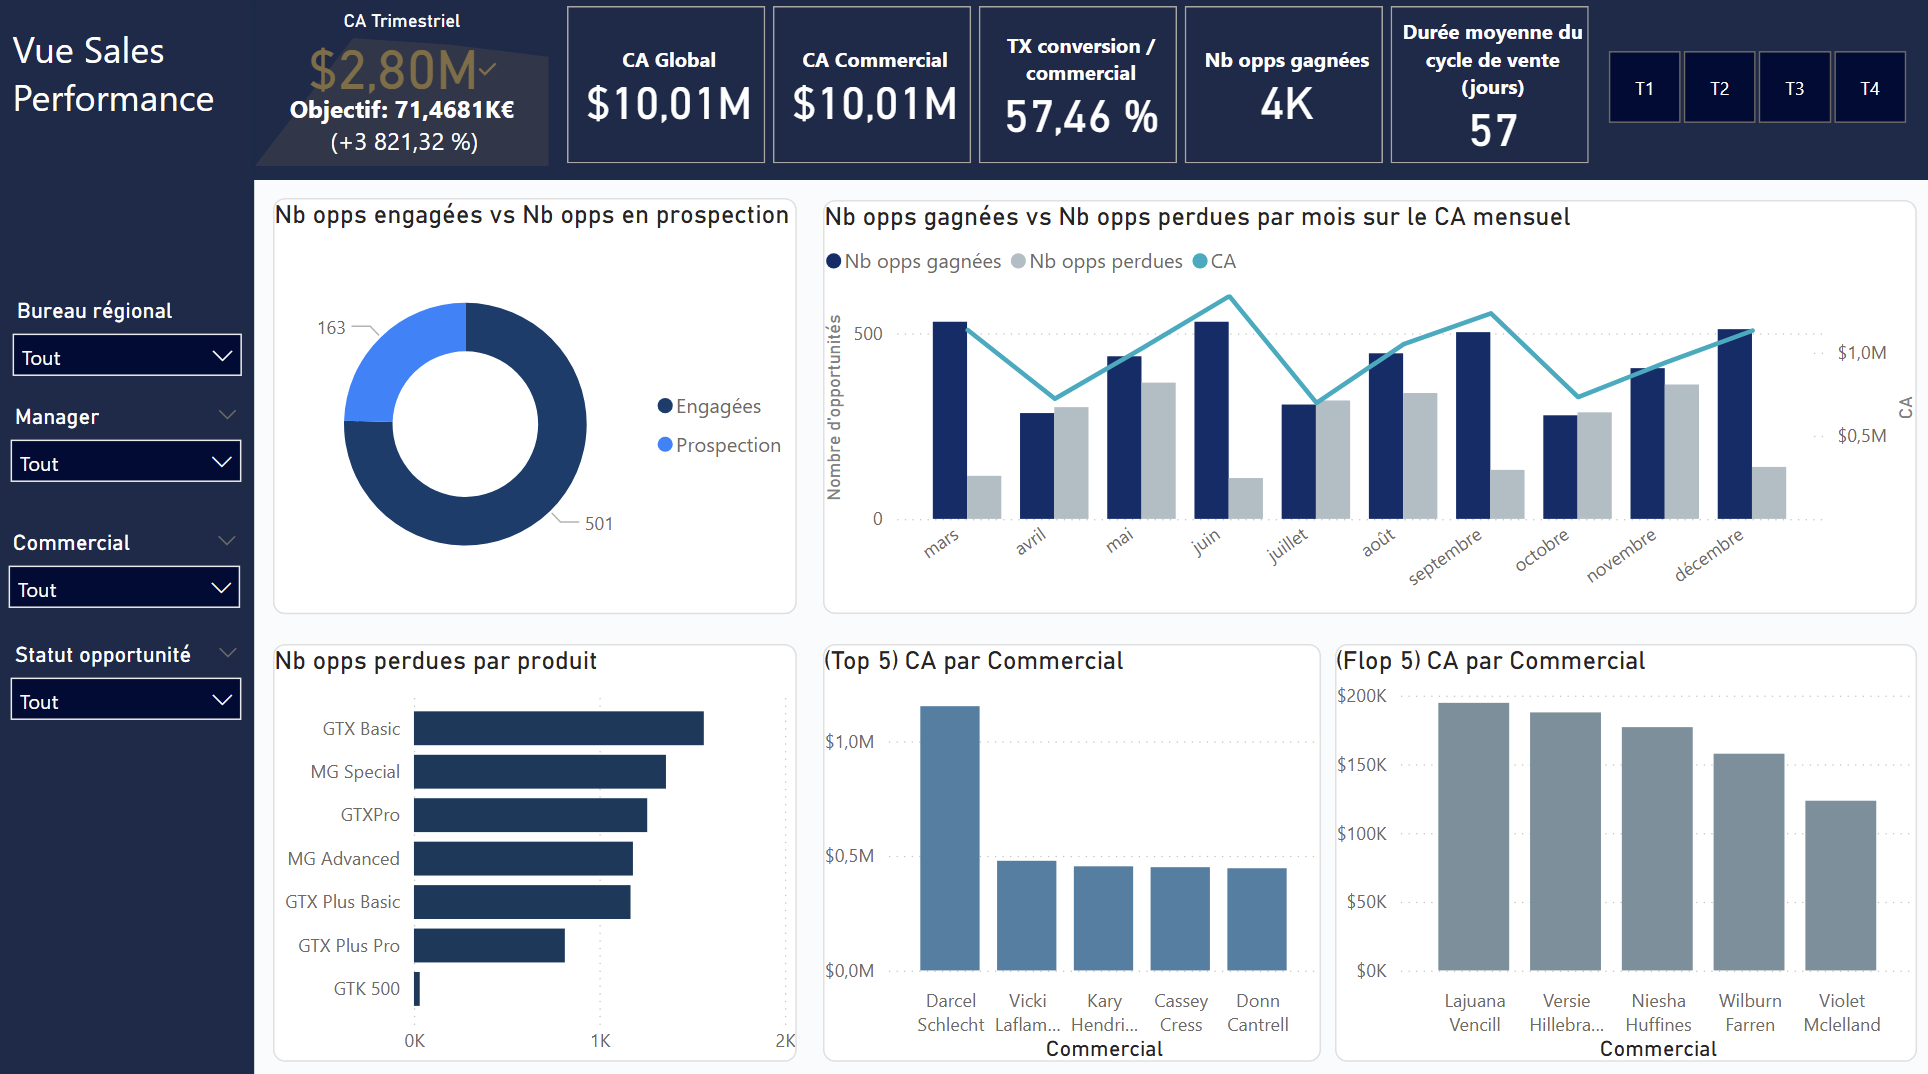

The dashboard page shown, as its layout file describes it:
{"tool":"powerbi","page":{"name":"Sales Performance","canvas":[1280,720],"ordinal":0},"visuals":[{"type":"shape","box":[158.5,0,1121.6,122.9],"z":0},{"type":"shape","box":[0,0,170,718.6],"z":1000},{"type":"slicer","fields":{"Values":["sales_teams.manager"]},"box":[4,271.1,162.3,75.4],"z":2000},{"type":"slicer","fields":{"Values":["sales_teams.Bureau régional"]},"box":[4.9,201.1,161.4,58.5],"z":3000},{"type":"slicer","fields":{"Values":["DimCalendar_Close_Date.Trimestre"]},"box":[1043.7,35.7,236.5,51.5],"z":4000},{"type":"slicer","fields":{"Values":["sales_teams.sales_agent"]},"box":[2.2,353.6,163.2,75.4],"z":6000},{"type":"textbox","box":[5.3,14.5,171.7,93.8],"z":7000},{"type":"kpi","title":"CA Trimestriel ","fields":{"Goal":["Mesure.Objectif_trimestriel_agent"],"Indicator":["Mesure.CA"],"TrendLine":["DimCalendar_Close_Date.Trimestre"]},"box":[170.4,6.6,194.2,111],"z":8000},{"type":"cardVisual","fields":{"Data":["Mesure.CA Global","Mesure.CA","Mesure.Taux_Conversion","Mesure.nb_won_opps","Mesure.Duree_moyenne_cycle"]},"box":[376.7,3.5,675.6,112.8],"z":9000},{"type":"donutChart","title":"Nb opps engagées vs Nb opps en prospection","fields":{"Y":["Mesure.nb_opps_engaging 2","Mesure.nb_opps_prospecting 2"]},"box":[182.3,134.8,346.1,274.8],"z":10000},{"type":"lineClusteredColumnComboChart","title":"Nb opps gagnées vs Nb opps perdues par mois sur le CA mensuel","fields":{"Y":["Mesure.nb_won_opps","Mesure.nb_lost_opps"],"Y2":["Mesure.CA"],"Category":["DimCalendar_Close_Date.Mois (nom)"]},"box":[545.6,136.1,722.6,273.5],"z":11000},{"type":"clusteredBarChart","fields":{"Category":["products.product"],"Y":["Mesure.nb_opps_produit"]},"box":[182.3,429.4,346.1,276.1],"z":12000},{"type":"clusteredColumnChart","title":"(Top 5) CA par Commercial","fields":{"Category":["sales_teams.sales_agent"],"Y":["Mesure.CA"]},"box":[545.6,429.4,329,276.1],"z":13000},{"type":"clusteredColumnChart","title":"(Flop 5) CA par Commercial","fields":{"Category":["sales_teams.sales_agent"],"Y":["Mesure.CA"]},"box":[883.8,429.4,384.4,276.1],"z":14000},{"type":"slicer","fields":{"Values":["sales_pipeline.deal_stage"]},"box":[4.4,428.6,162.6,75.4],"z":15001}]}

Visuals, with their boxes in screenshot pixels (x1, y1, x2, y2), scaled from the page's 1280x720 canvas onto the 1928x1074 screenshot:
shape: (x1=239, y1=0, x2=1927, y2=183)
shape: (x1=0, y1=0, x2=256, y2=1072)
slicer - sales_teams.manager: (x1=6, y1=404, x2=250, y2=517)
slicer - sales_teams.Bureau régional: (x1=7, y1=300, x2=250, y2=387)
slicer - DimCalendar_Close_Date.Trimestre: (x1=1572, y1=53, x2=1927, y2=130)
slicer - sales_teams.sales_agent: (x1=3, y1=527, x2=249, y2=640)
textbox: (x1=8, y1=22, x2=267, y2=162)
"CA Trimestriel " kpi: (x1=257, y1=10, x2=549, y2=175)
cardVisual - Mesure.CA Global x Mesure.CA: (x1=567, y1=5, x2=1585, y2=173)
"Nb opps engagées vs Nb opps en prospection" donutChart: (x1=275, y1=201, x2=796, y2=611)
"Nb opps gagnées vs Nb opps perdues par mois sur le CA mensuel" lineClusteredColumnComboChart: (x1=822, y1=203, x2=1910, y2=611)
clusteredBarChart - products.product x Mesure.nb_opps_produit: (x1=275, y1=641, x2=796, y2=1052)
"(Top 5) CA par Commercial" clusteredColumnChart: (x1=822, y1=641, x2=1317, y2=1052)
"(Flop 5) CA par Commercial" clusteredColumnChart: (x1=1331, y1=641, x2=1910, y2=1052)
slicer - sales_pipeline.deal_stage: (x1=7, y1=639, x2=252, y2=752)
